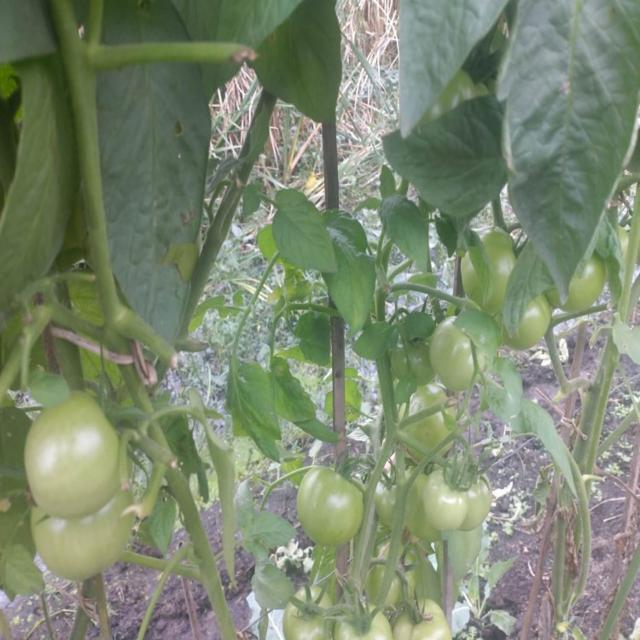tomato: (27, 394, 122, 517), (32, 496, 142, 579), (298, 466, 367, 548), (466, 232, 520, 320), (426, 323, 479, 393), (284, 584, 340, 640), (571, 259, 614, 317), (395, 603, 453, 640), (430, 472, 469, 527), (335, 598, 384, 640), (459, 481, 491, 531), (522, 307, 550, 352)
